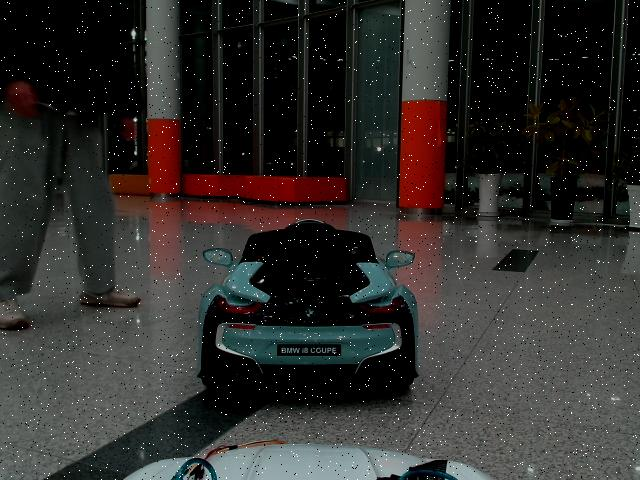car: (198, 220, 420, 390)
